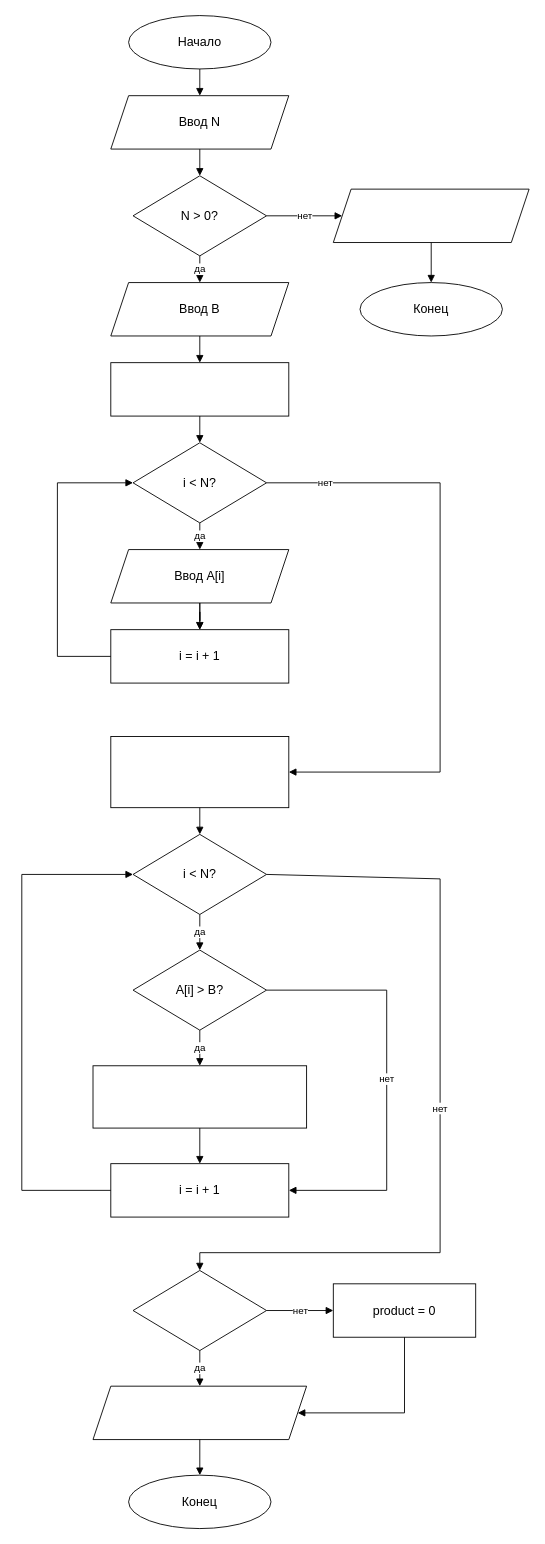
This 545x1544 diagram has some shape labels left out. Here are the shapes that lost their labels. From the top down, the centre of each, then its label:
At (430,215): "Вывод сообщения об ошибке".
At (199,389): "i = 0".
At (199,772): "i = 0 count = 0 product = 1".
At (199,1096): "count = count + 1 product = product * A[i]".
At (199,1310): "count > 0?".
At (199,1412): "Вывод count, product".
